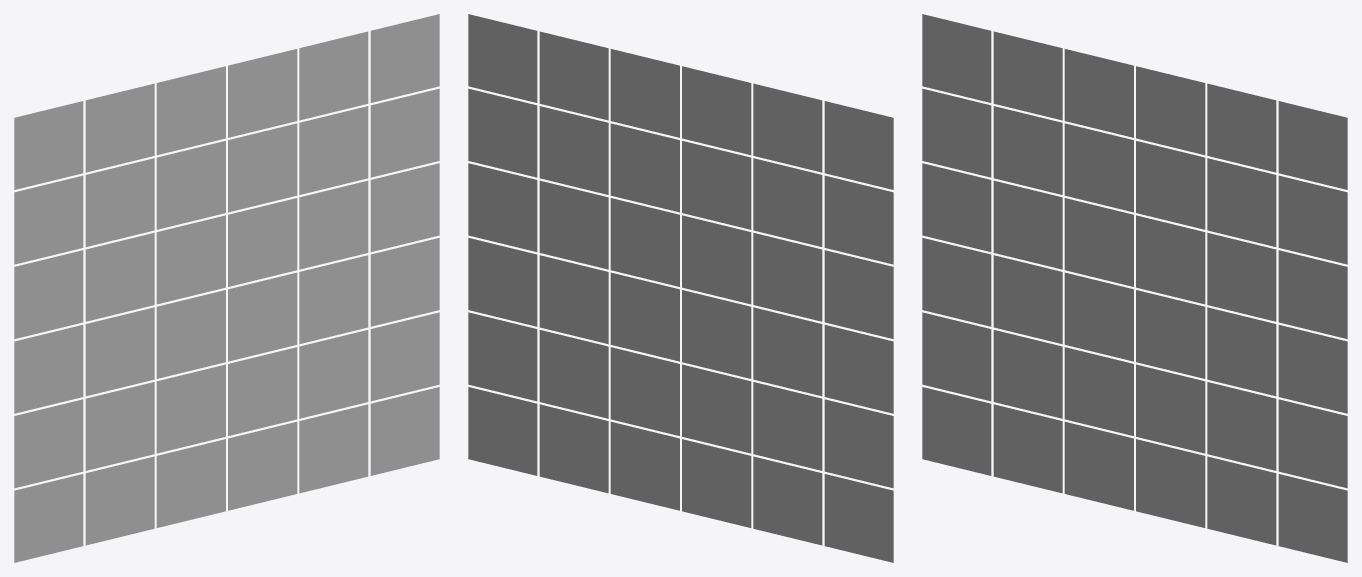
Rendered from 2x2mosaic.gltf.
The picture shows the model from 3 angles, left to right: view 1: azimuth 30°, elevation 25°; view 2: azimuth 150°, elevation 25°; view 3: azimuth 330°, elevation 25°; orthographic projection.
Visible parts, largest first — view 1: 2x2mosaic; view 2: 2x2mosaic; view 3: 2x2mosaic.
Boxes of the visible parts, x1=… form: 2x2mosaic: x1=14, y1=14, x2=439, y2=562; 2x2mosaic: x1=468, y1=14, x2=893, y2=562; 2x2mosaic: x1=922, y1=14, x2=1347, y2=562.
Bounding box in the file's own units: 313 × 313 × 0.
Materials: 36 (36 with a texture image).
